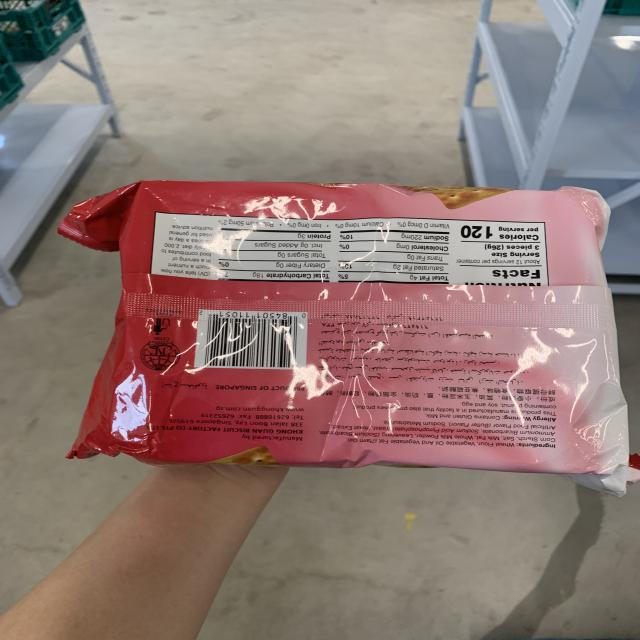object_name: (96, 183, 612, 461)
